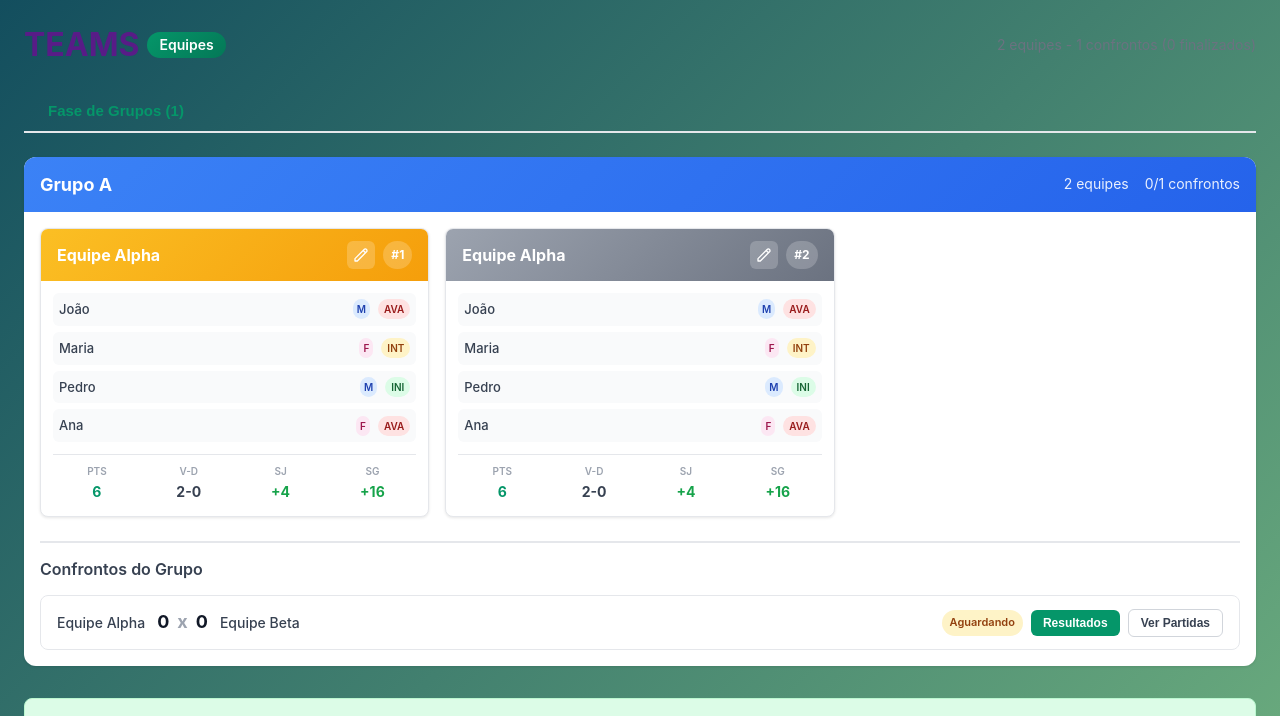
Test: ChavesTeams › expandir partidas › deve expandir e mostrar partidas ao clicar em Ver Partidas
The image size is (1280, 716).
Step 1. Click the button "Ver Partidas" → click(1175, 623), box x1=1128 y1=609 x2=1223 y2=637
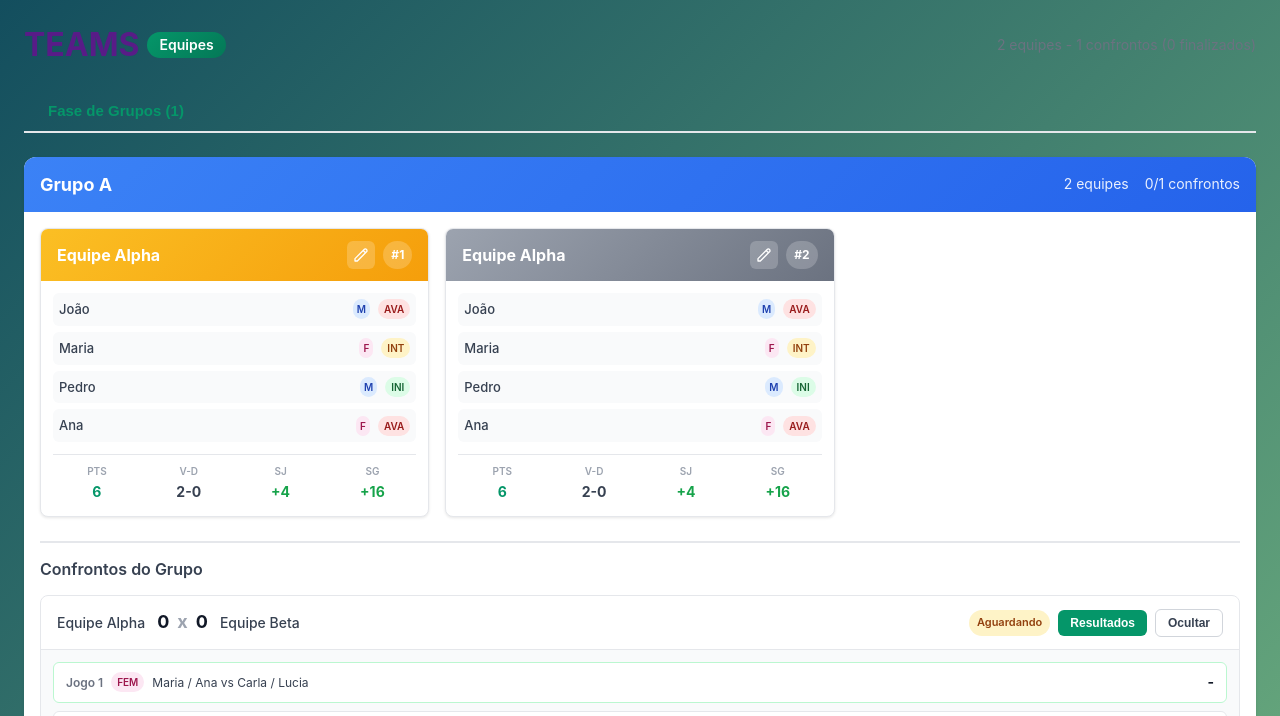
Expected: the text "Jogo 1" is shown, x1=66 y1=673 x2=103 y2=692
Expected: the text "FEM" is shown, x1=111 y1=672 x2=144 y2=692
